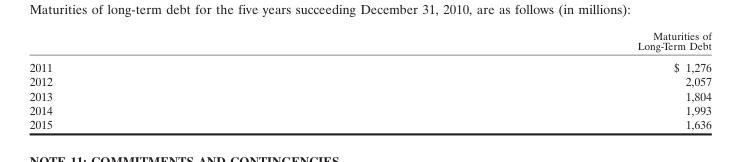table: (28, 28, 710, 130)
table column: (344, 28, 710, 130), (28, 28, 344, 130)
table column header: (28, 28, 710, 55)
table row: (28, 28, 710, 55), (28, 55, 710, 74), (28, 74, 710, 88), (28, 88, 710, 102), (28, 102, 710, 116), (28, 116, 710, 130)
